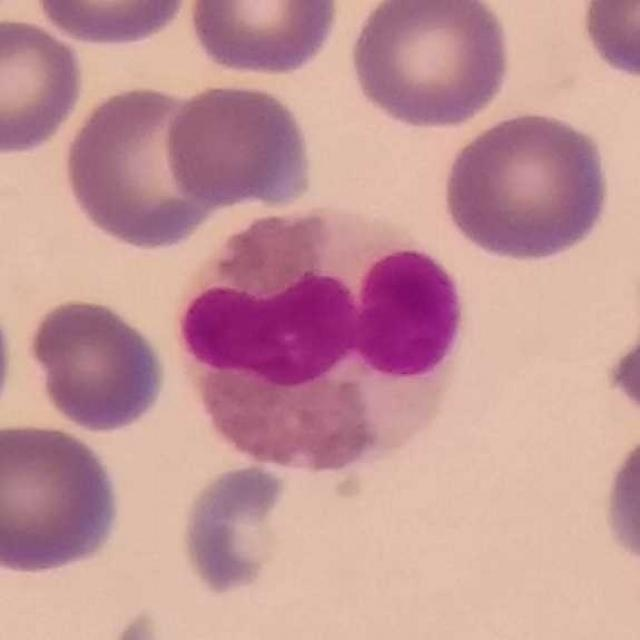eosino: (182, 204, 468, 473)
